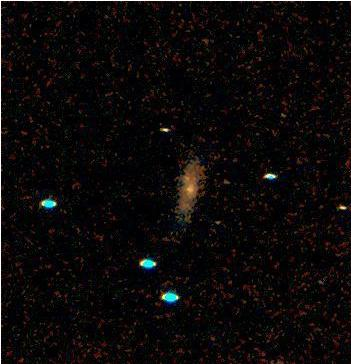star: (154, 116, 184, 146)
